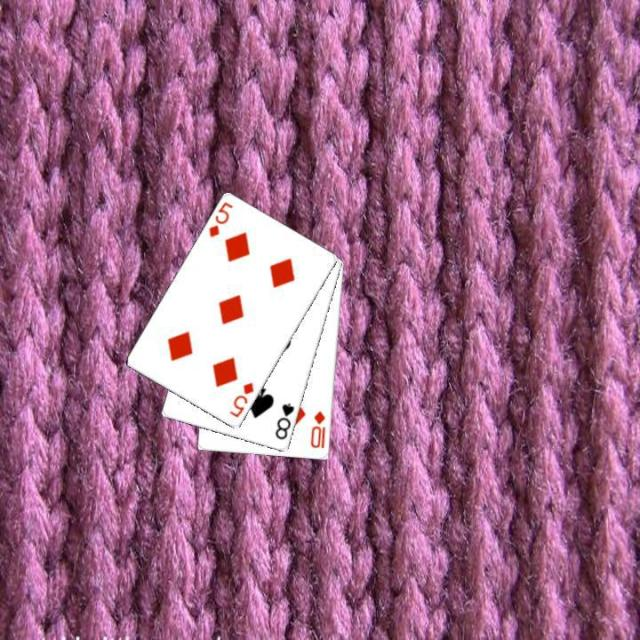10D: (307, 407, 327, 451)
5D: (204, 198, 234, 240), (226, 378, 256, 419)
8S: (271, 399, 296, 442)
